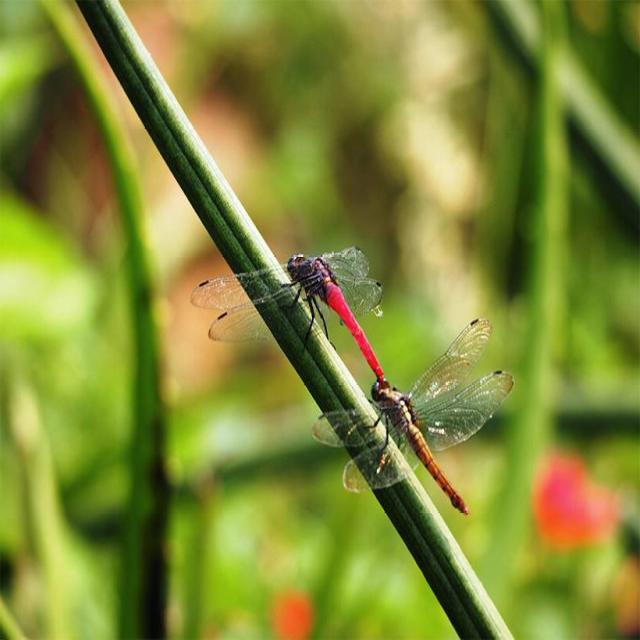dragonfly: (313, 318, 514, 514), (191, 247, 383, 379)
